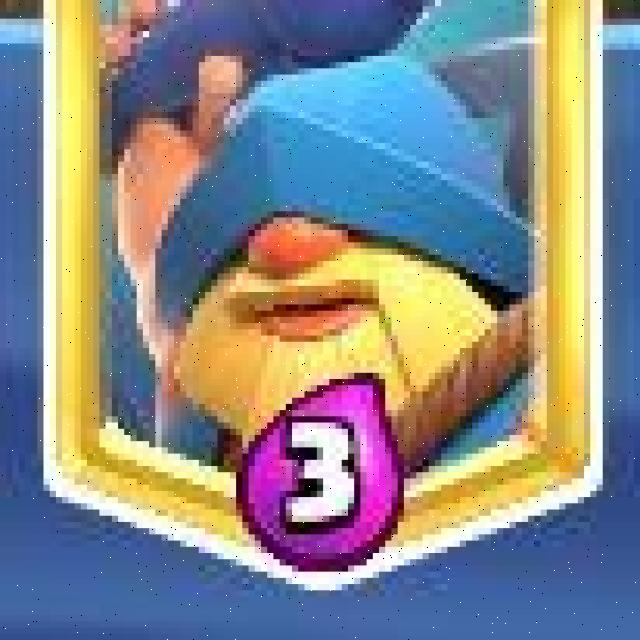Fisherman: (37, 0, 605, 591)
